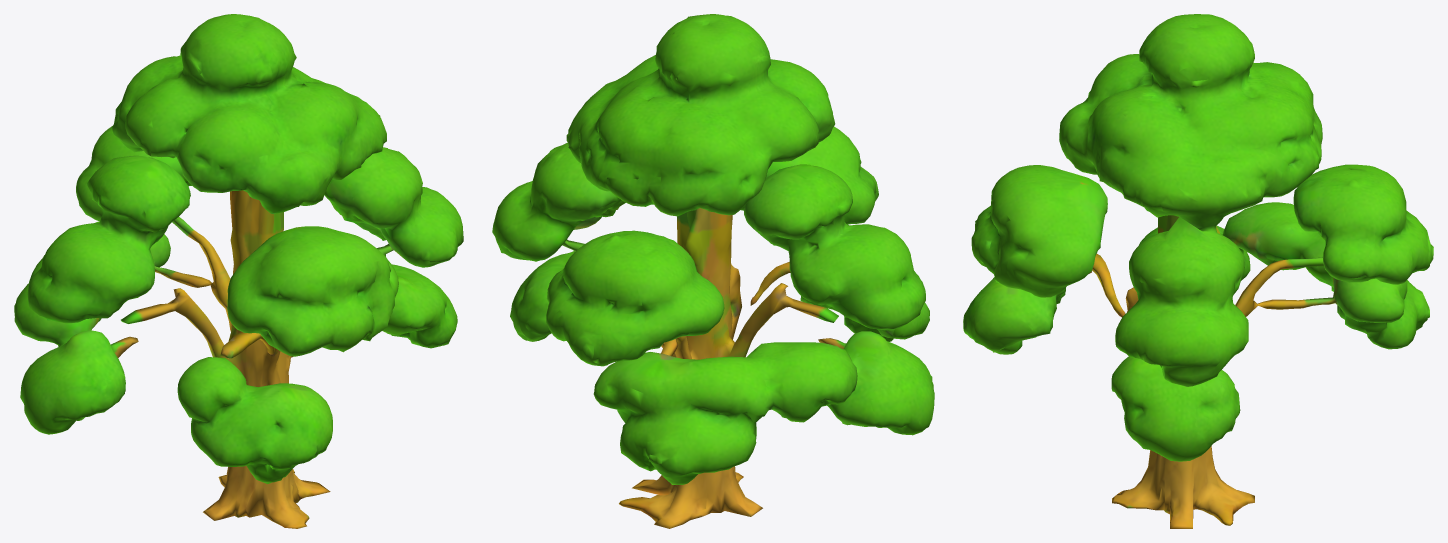
Rendered from tree.glb.
3 renders of one model, left to right at view 1: azimuth 30°, elevation 25°; view 2: azimuth 150°, elevation 25°; view 3: azimuth 270°, elevation 25°, orthographic. The views are drawn at different scales.
Parts seen in each view (by area): view 1: model; view 2: model; view 3: model.
Part boxes in pixels (bbox=[...]): model: bbox=[14, 14, 463, 528]; model: bbox=[492, 14, 934, 528]; model: bbox=[963, 14, 1433, 528].
Bounding box in the file's own units: 1.76 × 1.9 × 1.74.
Materials: 1 (1 with a texture image).
